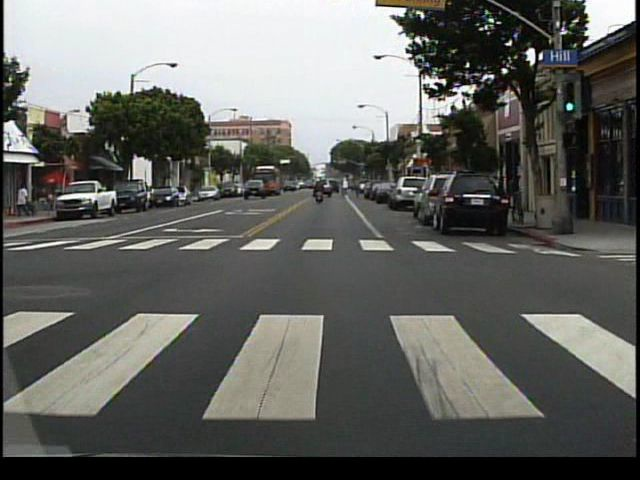person: (17, 182, 33, 220), (314, 181, 327, 207)
